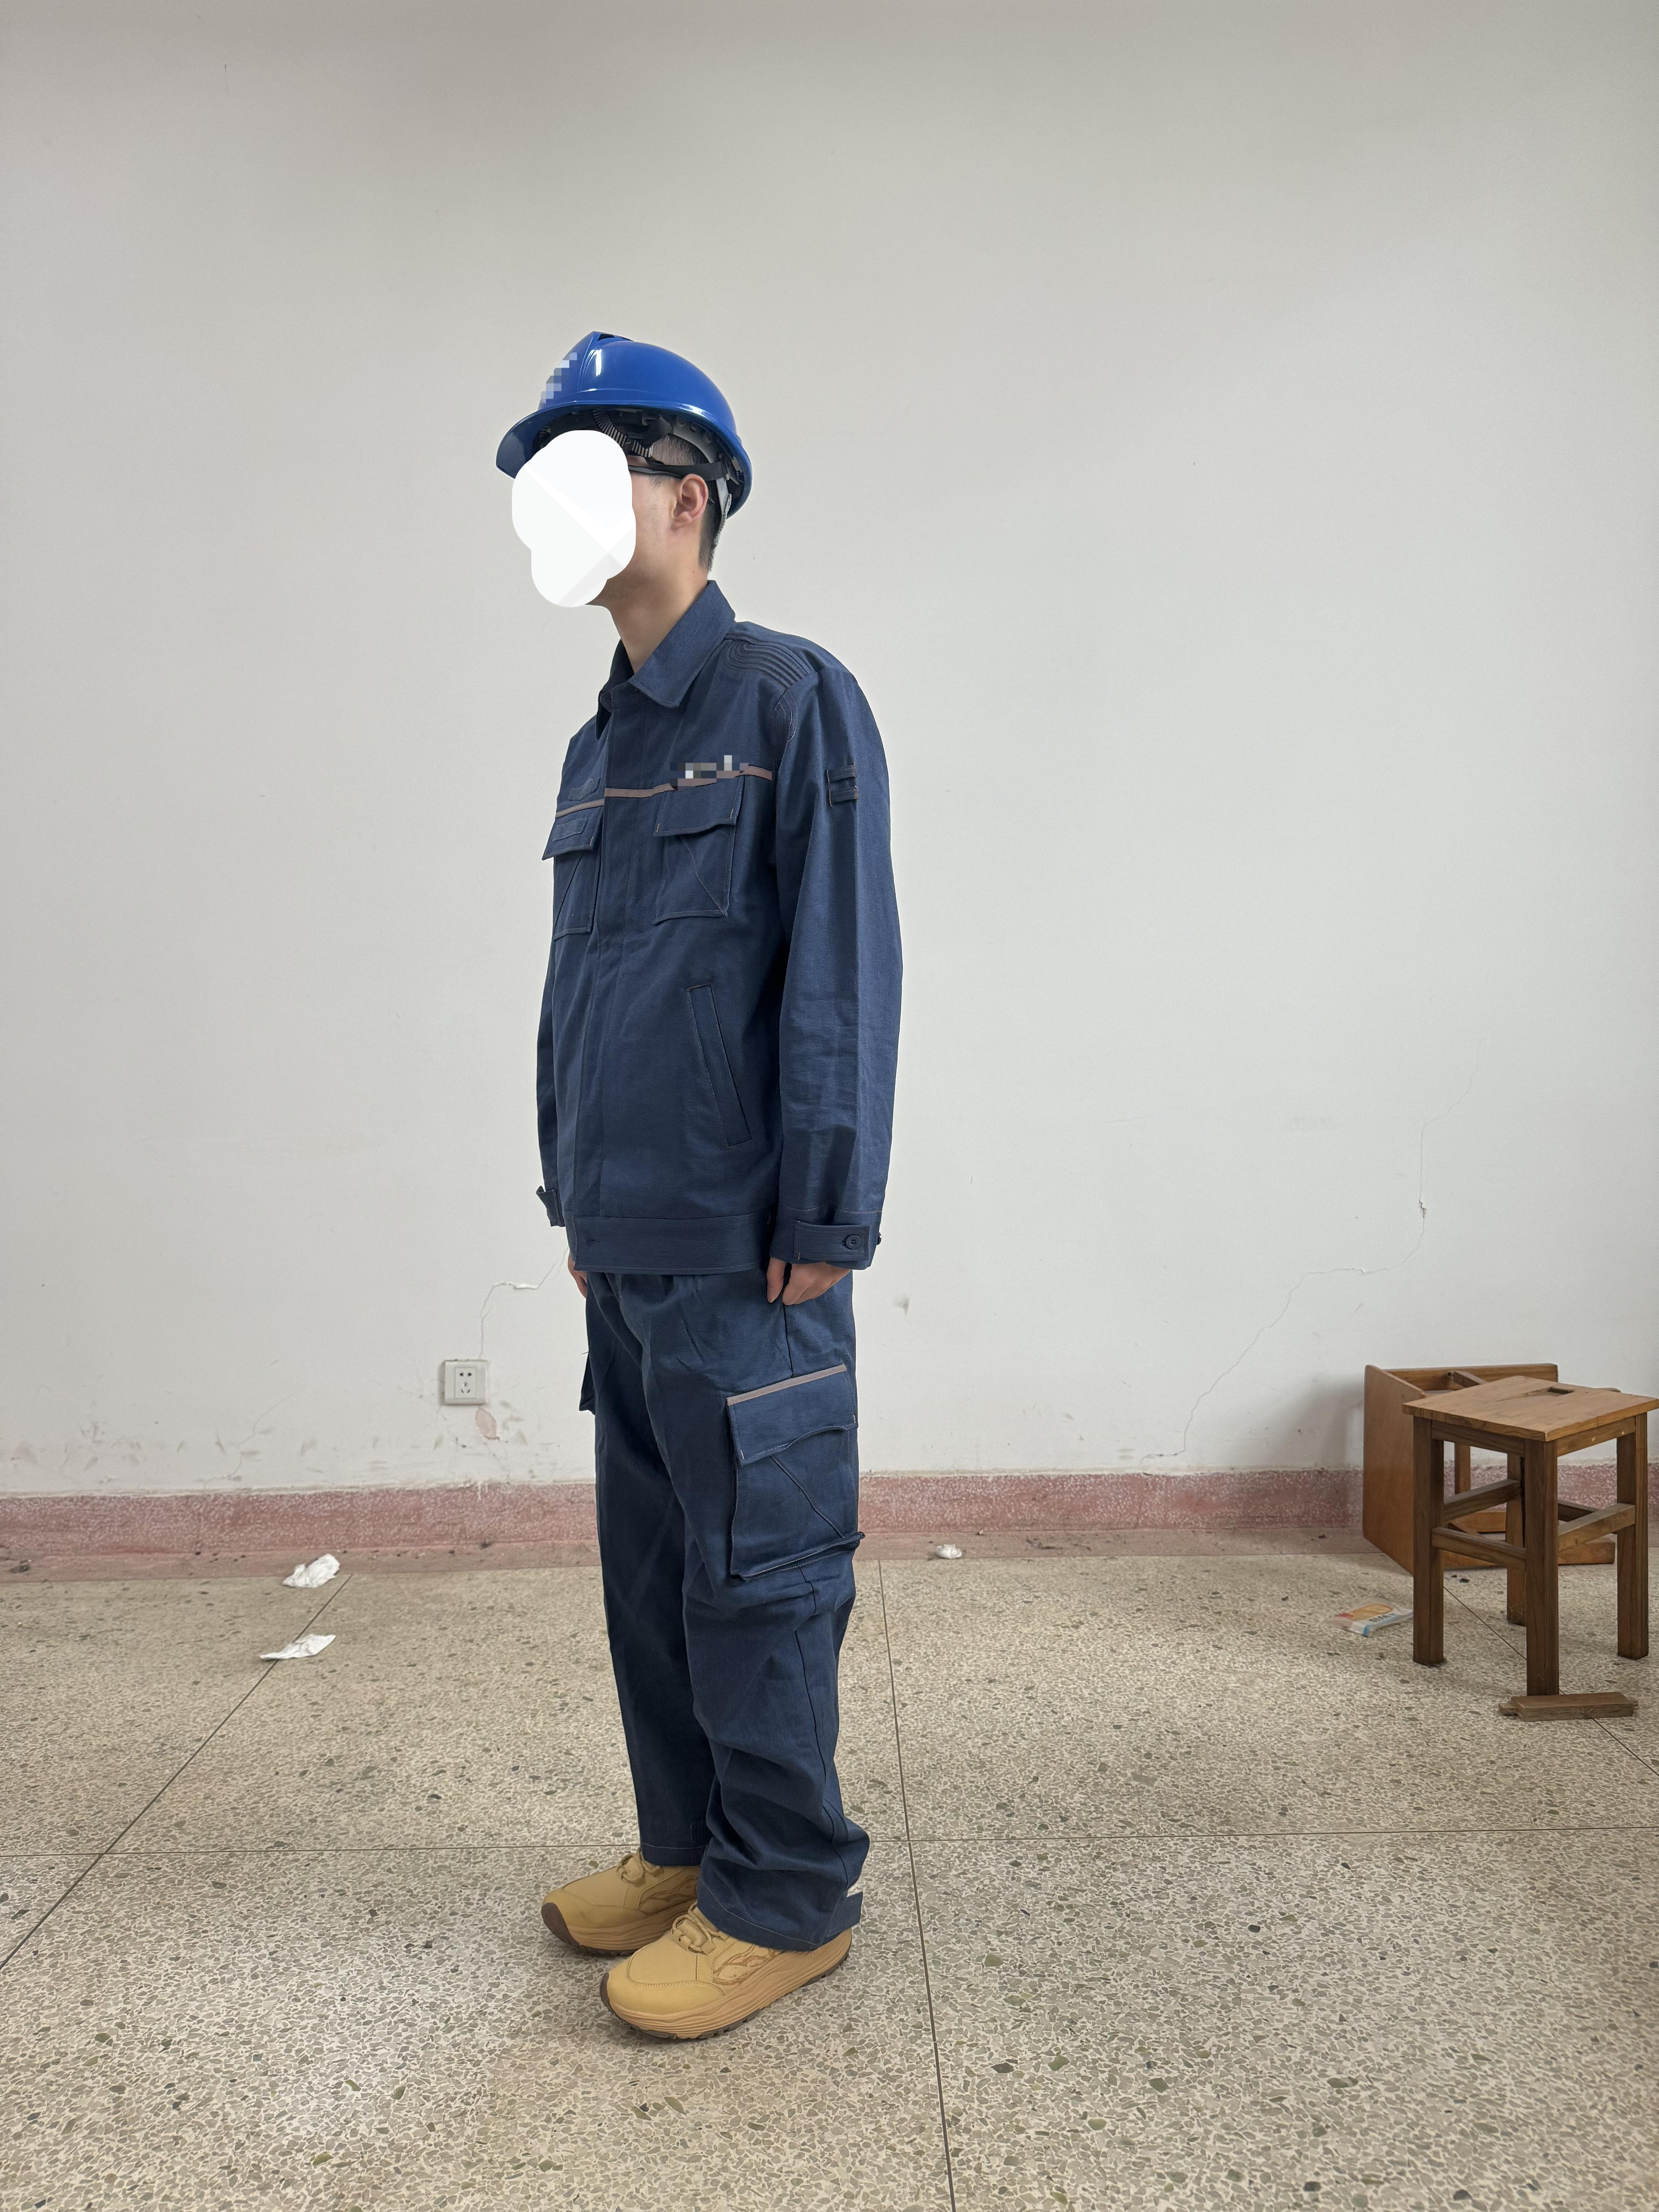halt: (488, 334, 765, 627)
noear: (608, 451, 720, 552)
